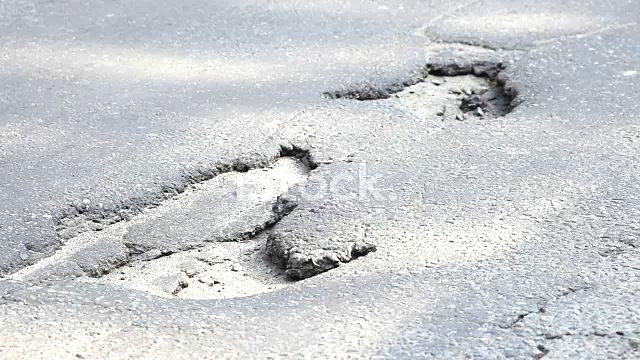ROAD_OBSTACLE: (250, 202, 442, 302)
